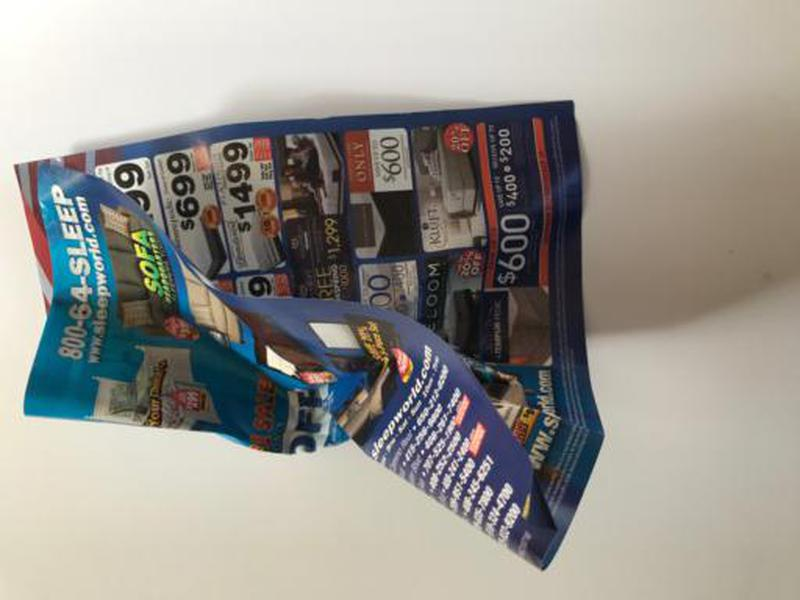paper: (10, 94, 610, 577)
